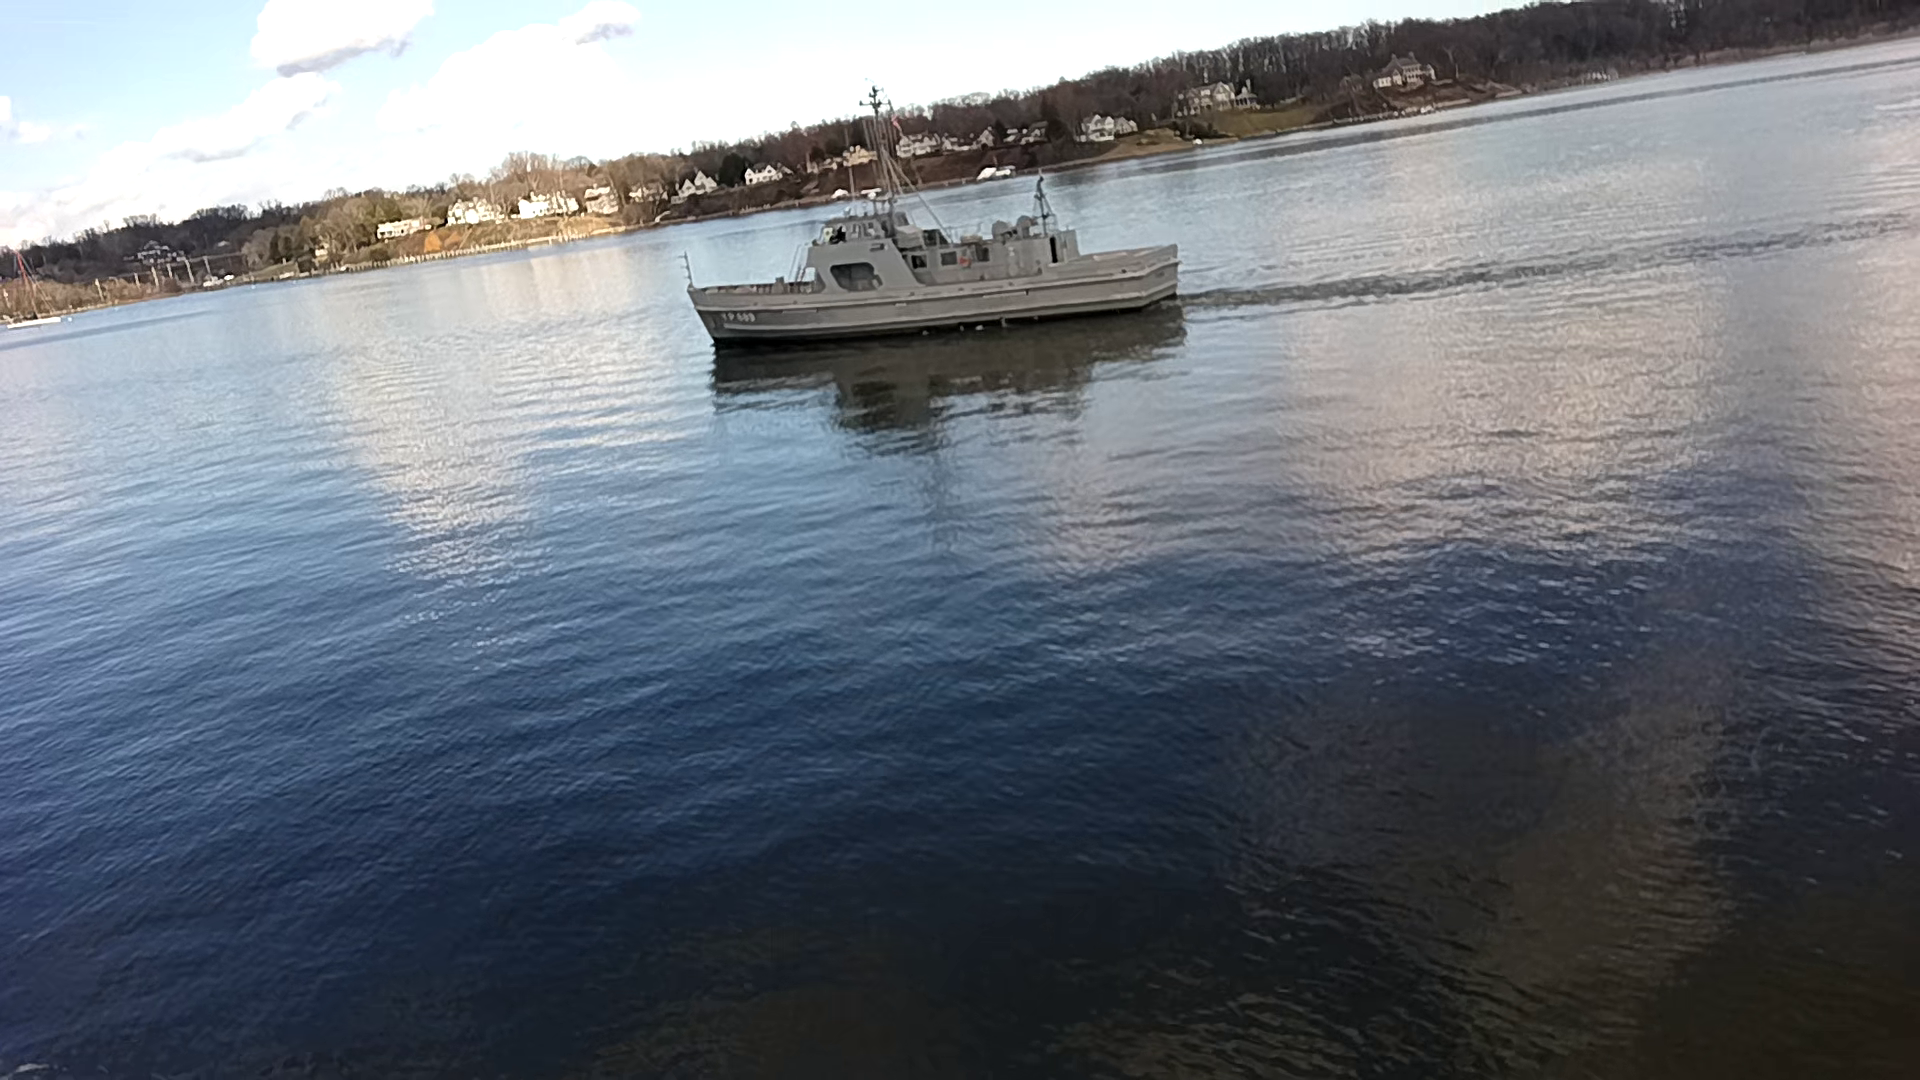YP689: (686, 87, 1180, 351)
